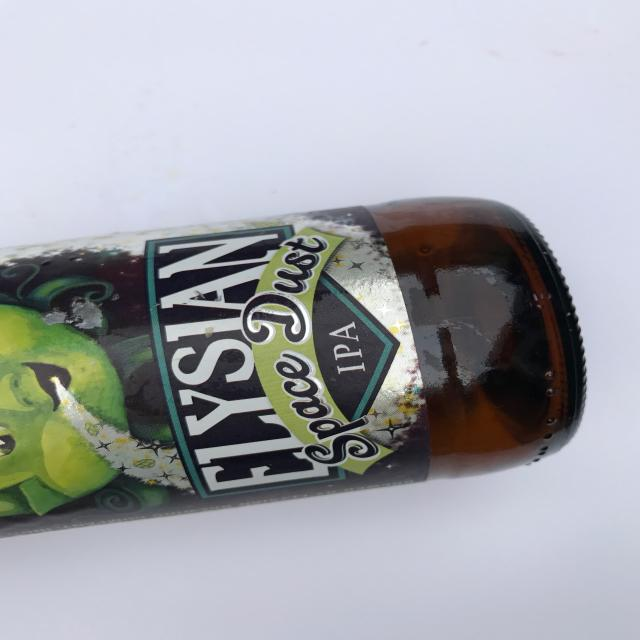glass: (0, 195, 588, 540)
